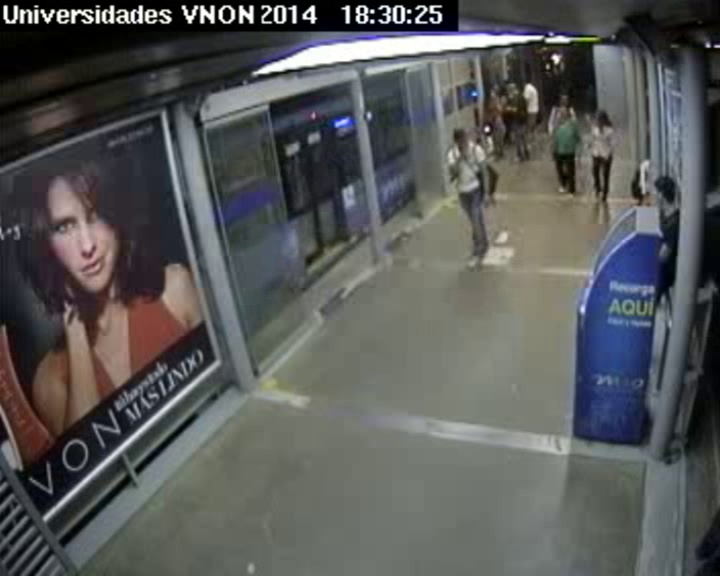person: (653, 175, 679, 207), (451, 126, 472, 148), (594, 110, 611, 127), (556, 90, 572, 108), (504, 80, 520, 97), (559, 110, 574, 124), (488, 80, 501, 94), (522, 77, 532, 87)
